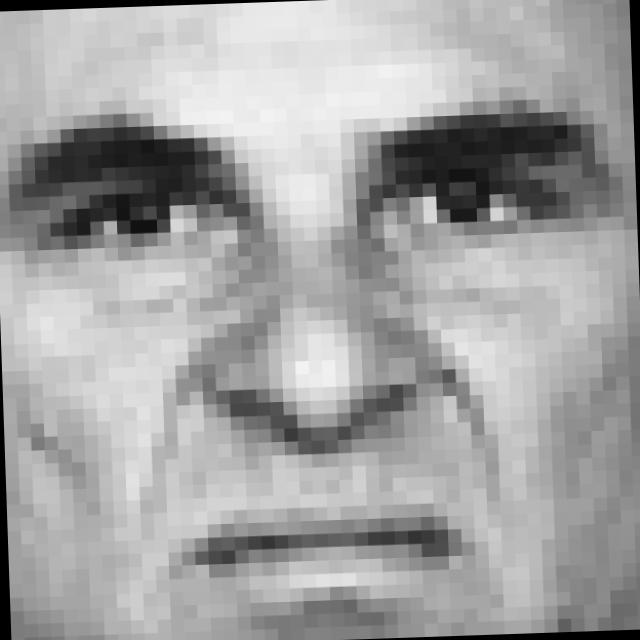disgust: (7, 89, 616, 637)
